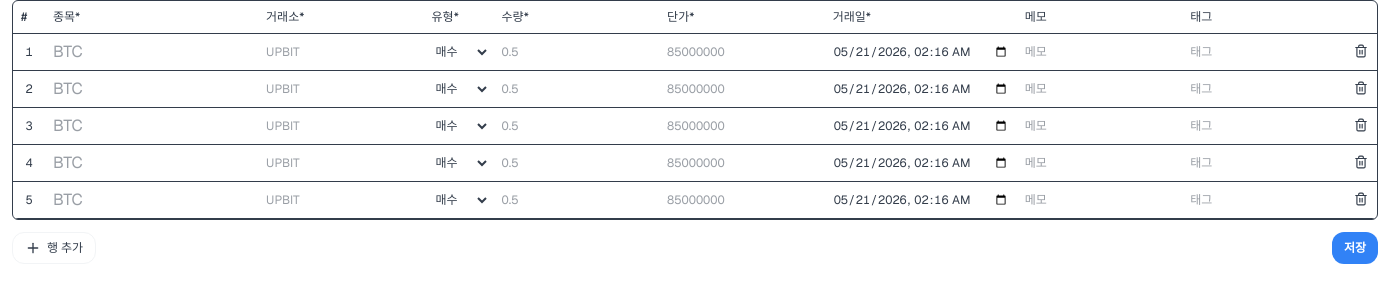
Test: BulkGridTab › 마지막 1행일 때 삭제 버튼이 비활성화된다
The width and height of the screenshot is (1390, 281).
Click the button named "행 삭제".
click(1361, 51)  # box [1352, 42, 1370, 60]
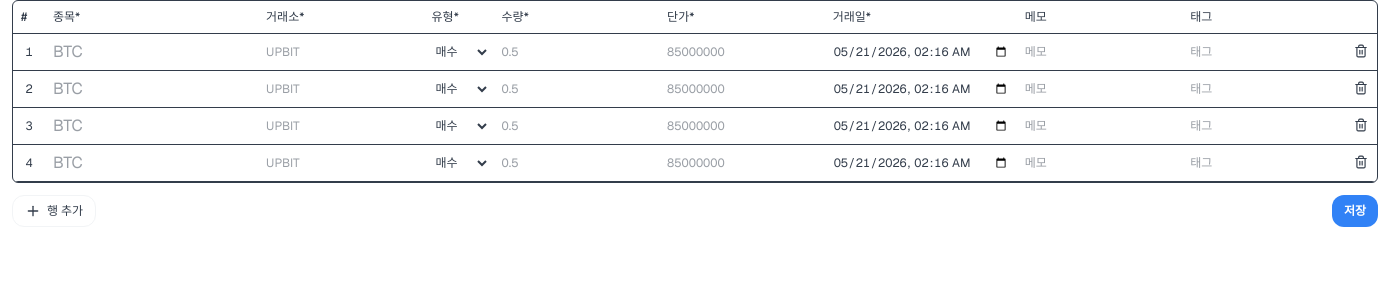
Click the button named "행 삭제".
click(1361, 51)  # box [1352, 42, 1370, 60]
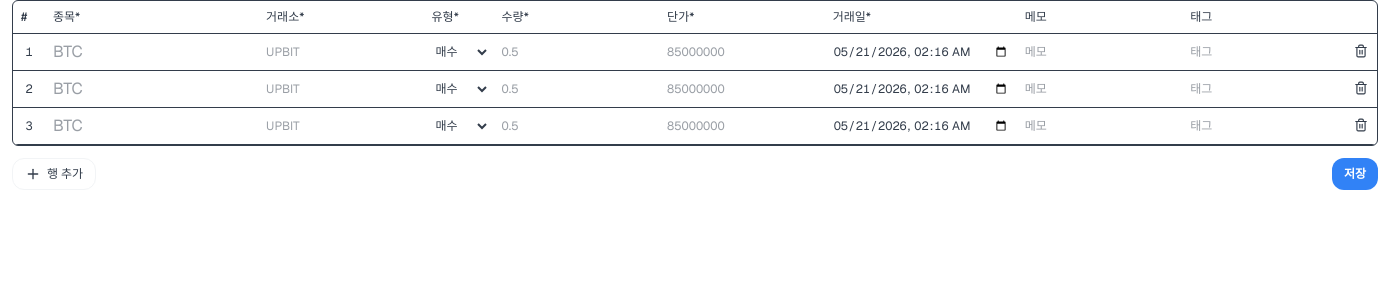
Click the button named "행 삭제".
click(1361, 51)  # box [1352, 42, 1370, 60]
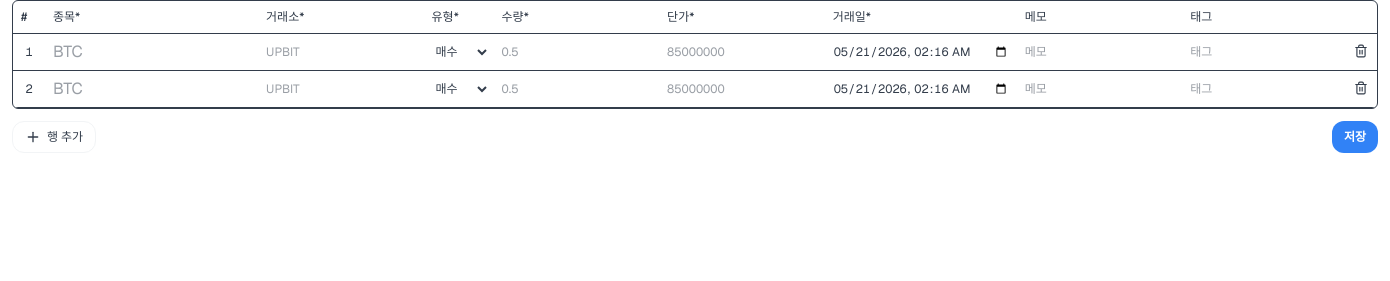
Click the button named "행 삭제".
click(1361, 51)  # box [1352, 42, 1370, 60]
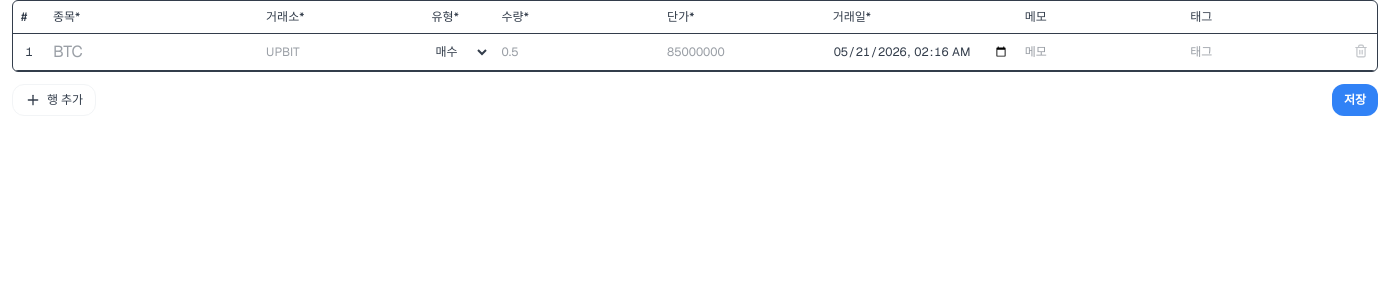
expect the button named "행 삭제" is disabled: met, box [1352, 42, 1370, 60]
